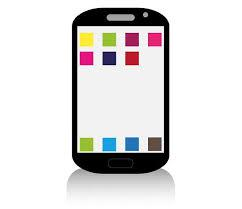Smartphone: (72, 11, 173, 173)
